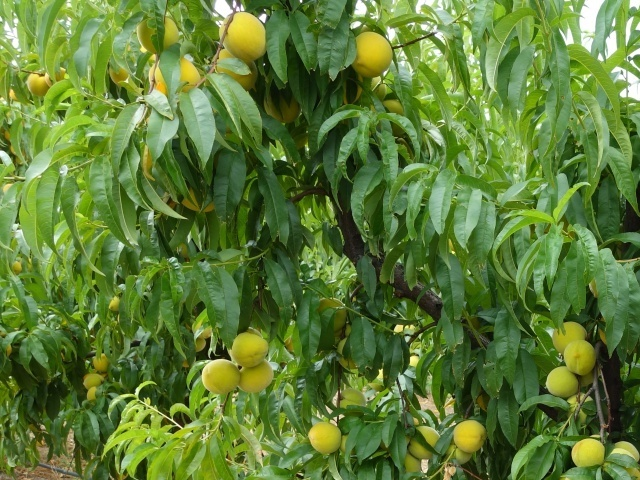peach: (344, 24, 399, 82), (216, 12, 271, 64), (206, 46, 262, 94), (146, 53, 204, 99), (130, 11, 181, 57), (252, 85, 304, 130), (198, 356, 241, 399), (225, 330, 270, 371), (550, 315, 591, 356), (304, 417, 345, 456), (449, 418, 490, 456), (405, 422, 444, 461), (230, 357, 274, 391), (570, 434, 607, 474), (542, 363, 581, 400), (562, 388, 601, 425), (563, 337, 599, 377), (443, 437, 477, 471), (318, 292, 350, 328), (330, 386, 369, 414), (21, 66, 56, 96), (87, 349, 118, 378), (77, 370, 108, 393), (83, 382, 107, 405)
